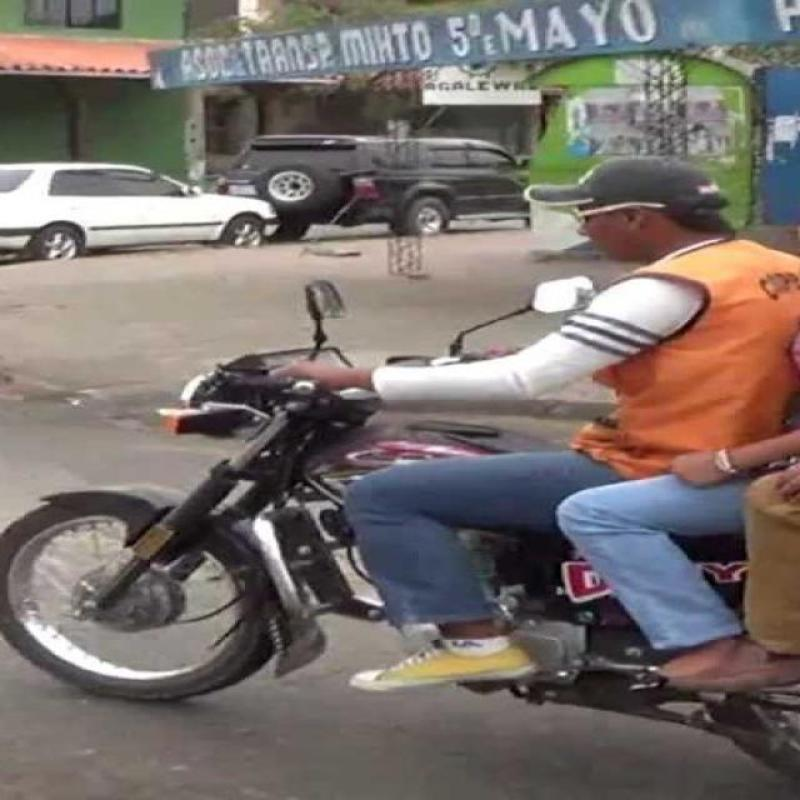nohelmet: (514, 144, 744, 258)
